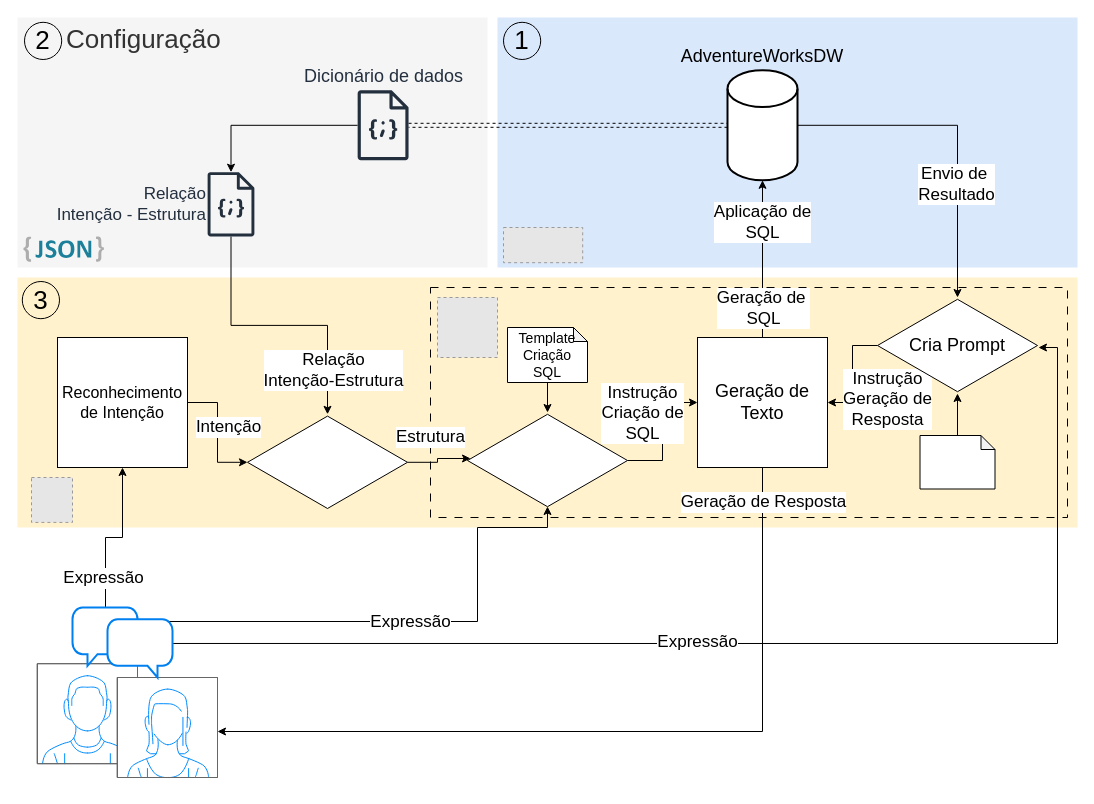
The diagram is 1094 pixels wide and 804 high, and some of its shapes have lost their labels. Grey dashed boxes stand in for pictures. Here are the shapes that lost their labels. From the top down, the box of each, then its label:
(497, 17, 1077, 267): Dados
(17, 277, 1077, 527): Pipeline
(246, 413, 408, 510): Mapeamento Intenção - Estrutura
(466, 412, 628, 508): Criação de Prompt
(919, 434, 995, 489): Template Geração Resposta
